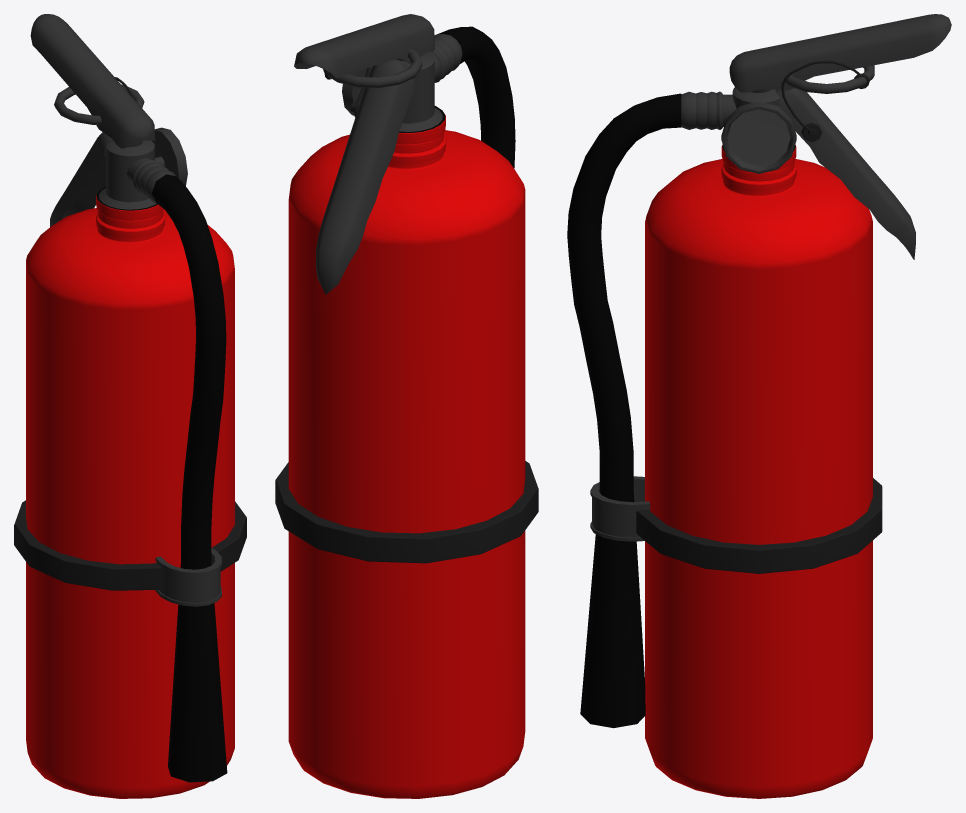
File: FireExtinguisher.fbx
The picture shows the model from 3 angles, left to right: view 1: azimuth 30°, elevation 25°; view 2: azimuth 150°, elevation 25°; view 3: azimuth 270°, elevation 25°; orthographic projection. The views are drawn at different scales.
Visible parts, largest first — view 1: FireExtinguisher; view 2: FireExtinguisher; view 3: FireExtinguisher.
Part boxes in pixels (left/top/right/bottom): FireExtinguisher: left=14, top=14, right=246, bottom=798; FireExtinguisher: left=275, top=14, right=538, bottom=798; FireExtinguisher: left=567, top=14, right=951, bottom=798.
Bounding box in the file's own units: 0.7934 × 2.56 × 1.21.
